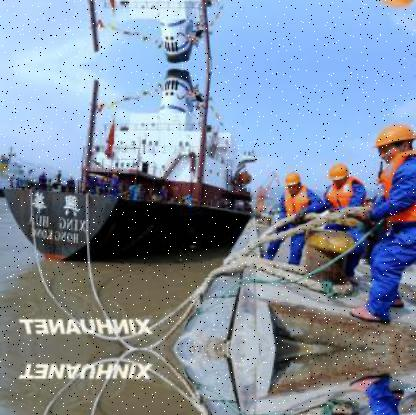helmet: (374, 120, 416, 165), (329, 161, 353, 189), (284, 168, 305, 194), (373, 0, 416, 11)
